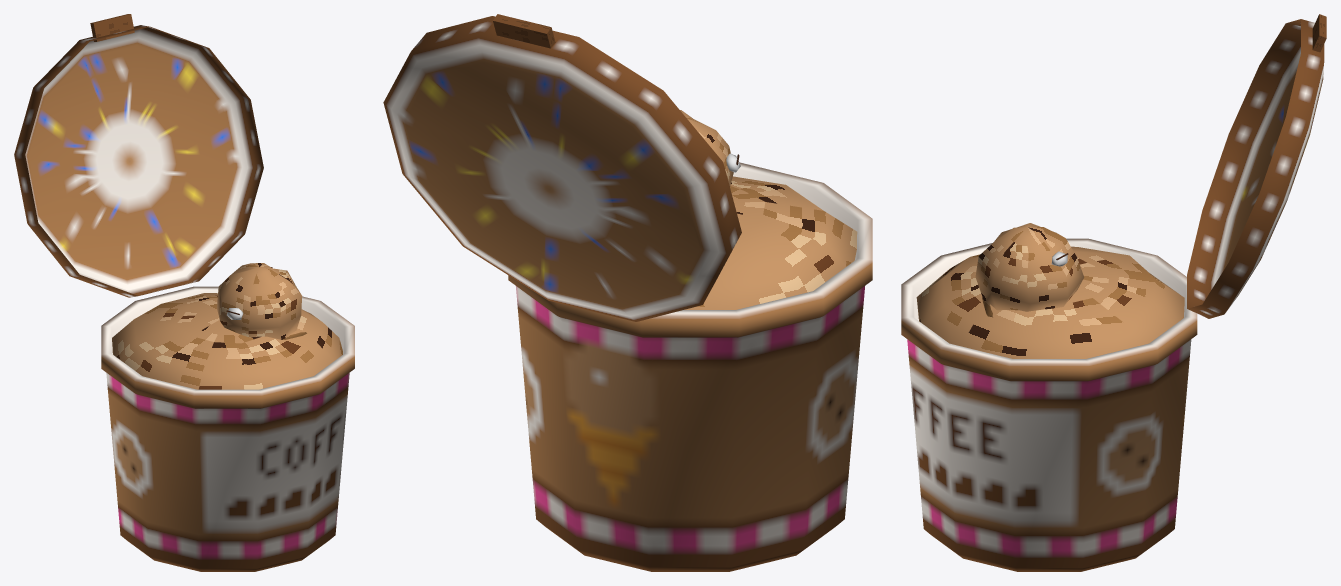
Rendered from Flavor Tub Coffee.fbx.
3 views of the same model, side by side, from view 1: azimuth 30°, elevation 25°; view 2: azimuth 150°, elevation 25°; view 3: azimuth 270°, elevation 25° (orthographic). The views are drawn at different scales.
Visible parts, largest first — view 1: Flavor Tub Coffee lid, Flavor Tub Coffee tub, Flavor Tub Coffee ice cream, Flavor Tub Coffee swirl, Flavor Tub Coffee lid tab; view 2: Flavor Tub Coffee tub, Flavor Tub Coffee lid, Flavor Tub Coffee ice cream, Flavor Tub Coffee lid tab, Flavor Tub Coffee swirl; view 3: Flavor Tub Coffee tub, Flavor Tub Coffee lid, Flavor Tub Coffee ice cream, Flavor Tub Coffee swirl.
Boxes of the visible parts, x1=… form: Flavor Tub Coffee lid: x1=14, y1=25, x2=263, y2=297; Flavor Tub Coffee tub: x1=101, y1=286, x2=354, y2=571; Flavor Tub Coffee ice cream: x1=112, y1=293, x2=342, y2=389; Flavor Tub Coffee swirl: x1=216, y1=263, x2=306, y2=339; Flavor Tub Coffee lid tab: x1=90, y1=14, x2=134, y2=41; Flavor Tub Coffee tub: x1=508, y1=162, x2=872, y2=571; Flavor Tub Coffee lid: x1=383, y1=16, x2=741, y2=321; Flavor Tub Coffee ice cream: x1=684, y1=176, x2=857, y2=309; Flavor Tub Coffee lid tab: x1=493, y1=14, x2=555, y2=48; Flavor Tub Coffee swirl: x1=680, y1=110, x2=733, y2=186; Flavor Tub Coffee tub: x1=901, y1=238, x2=1197, y2=571; Flavor Tub Coffee lid: x1=1187, y1=19, x2=1324, y2=318; Flavor Tub Coffee ice cream: x1=916, y1=246, x2=1184, y2=358; Flavor Tub Coffee swirl: x1=975, y1=223, x2=1084, y2=317.
Bounding box in the file's own units: 0.3033 × 0.5406 × 0.4191.
6 materials, 5 textured.
